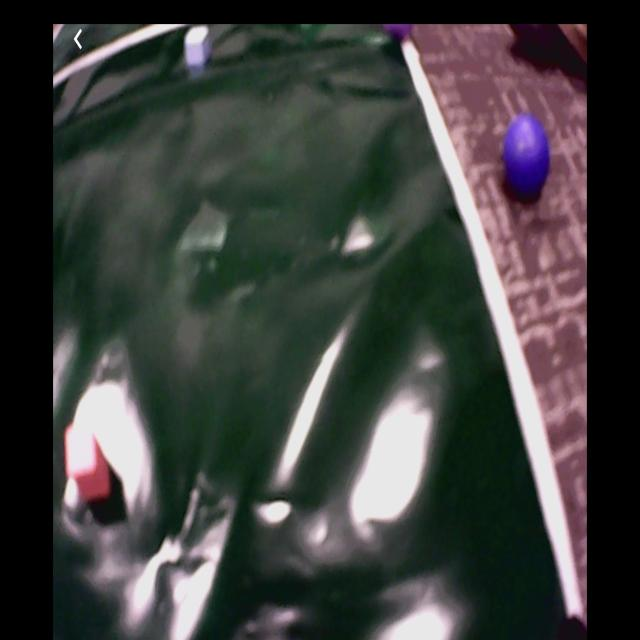ball: (503, 118, 552, 204), (384, 24, 419, 43)
